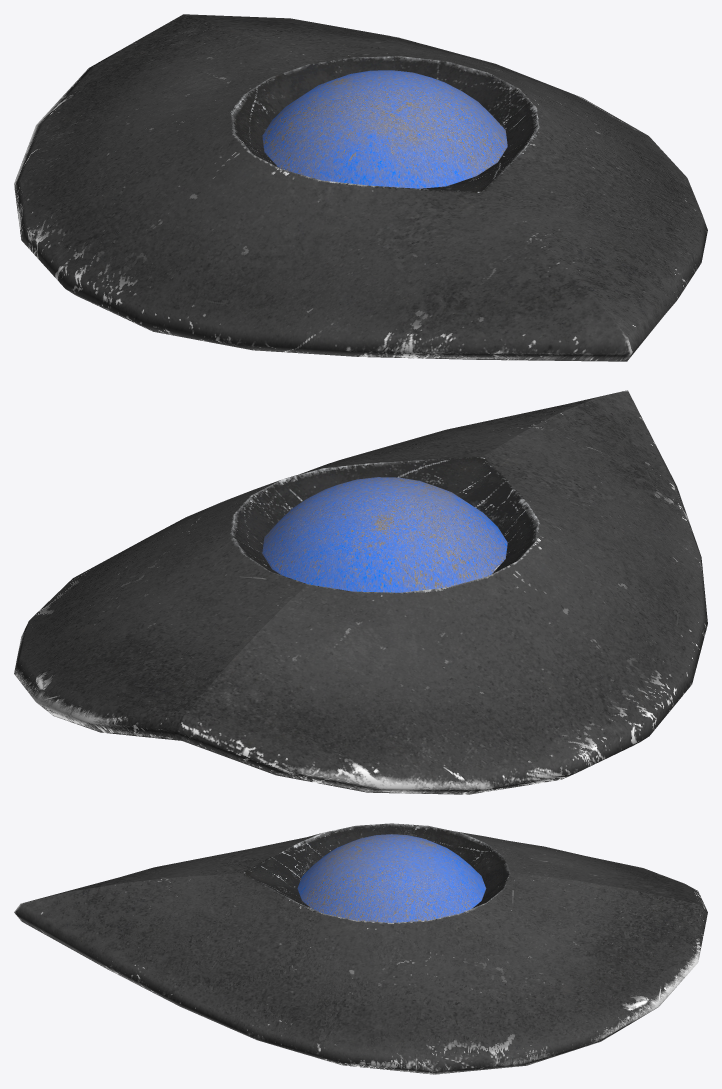
File: Ship_01.obj
3 views of the same model, one above another, from view 1: azimuth 30°, elevation 25°; view 2: azimuth 150°, elevation 25°; view 3: azimuth 270°, elevation 25° (orthographic). The views are drawn at different scales.
Parts seen in each view (by area): view 1: pTorus20; view 2: pTorus20; view 3: pTorus20.
Boxes of the visible parts, x1,y1,x2,y2 form: pTorus20: (14, 14, 707, 361); pTorus20: (14, 390, 707, 794); pTorus20: (14, 823, 707, 1074).
Size of the model in its own units: 2.75 by 0.7347 by 3.71.
